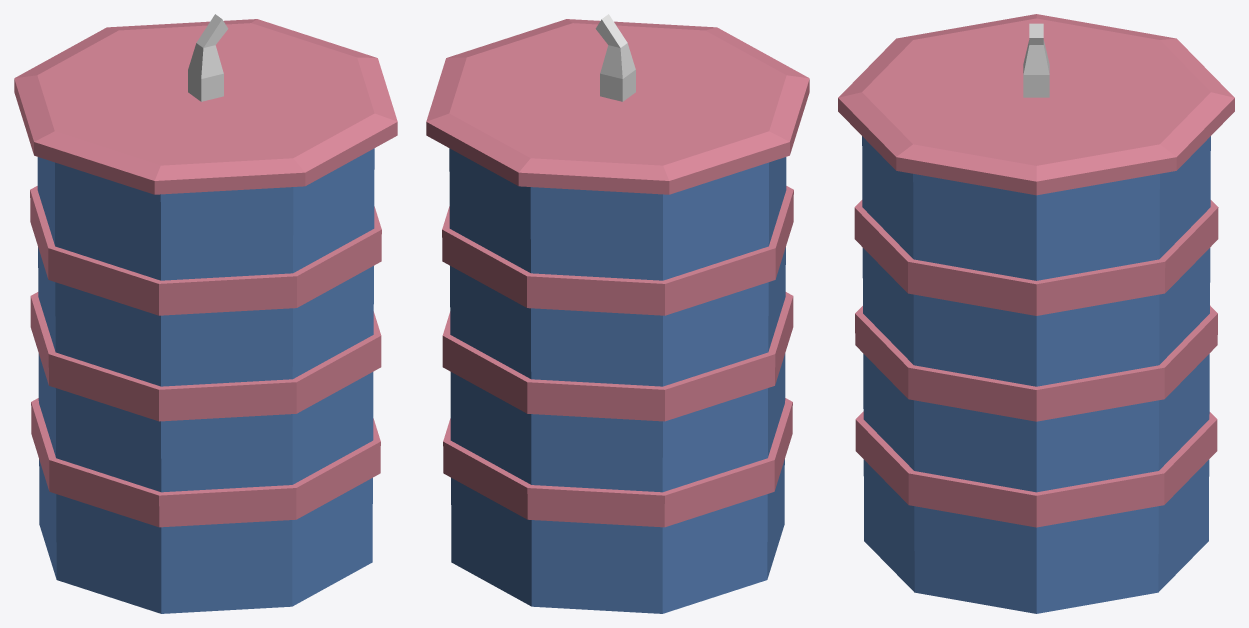
File: Barrel_2.fbx
3 renders of one model, left to right at view 1: azimuth 30°, elevation 25°; view 2: azimuth 150°, elevation 25°; view 3: azimuth 270°, elevation 25°, orthographic.
Parts seen in each view (by area): view 1: Barrel_2; view 2: Barrel_2; view 3: Barrel_2.
Boxes of the visible parts, x1,y1,x2,y2 form: Barrel_2: [14, 14, 397, 613]; Barrel_2: [426, 14, 809, 613]; Barrel_2: [838, 14, 1234, 613].
Size of the model in its own units: 71.46 by 71.46 by 104.
